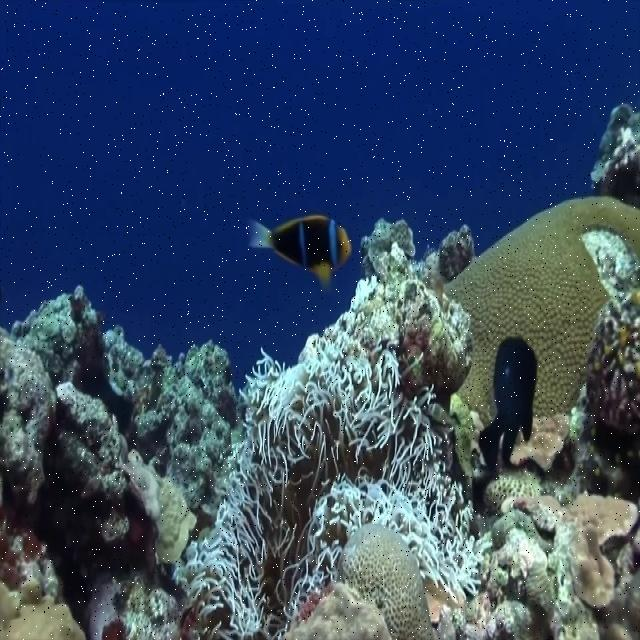fish: (478, 338, 538, 479), (248, 215, 352, 290)
reefs: (175, 335, 483, 637), (444, 197, 639, 419), (344, 531, 437, 639)
